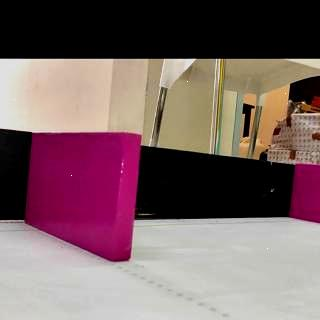xparking: (32, 133, 138, 247), (295, 164, 320, 220)
